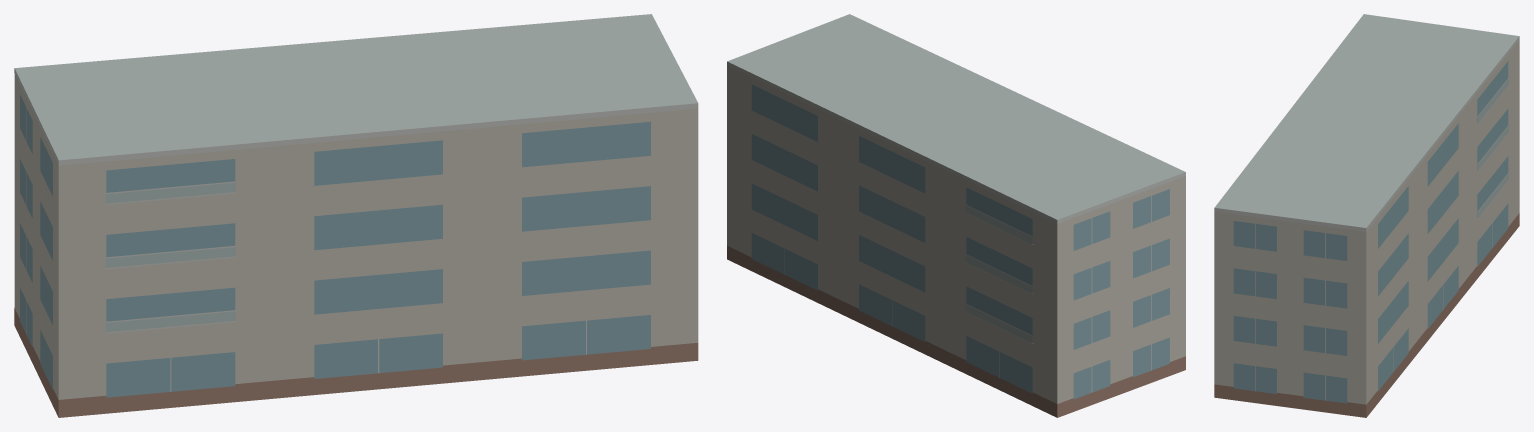
The model's file is survey-upis-32847967.glb.
3 renders of one model, left to right at view 1: azimuth 30°, elevation 25°; view 2: azimuth 150°, elevation 25°; view 3: azimuth 270°, elevation 25°, orthographic. The views are drawn at different scales.
Parts seen in each view (by area): view 1: survey-upis-32847967.tmp; view 2: survey-upis-32847967.tmp; view 3: survey-upis-32847967.tmp.
Boxes of the visible parts, box(x1,y1,x2,y2) form: survey-upis-32847967.tmp: box(14, 14, 698, 417); survey-upis-32847967.tmp: box(727, 14, 1185, 417); survey-upis-32847967.tmp: box(1214, 14, 1519, 417).
Bounding box in the file's own units: 29.26 × 12.1 × 17.63.
